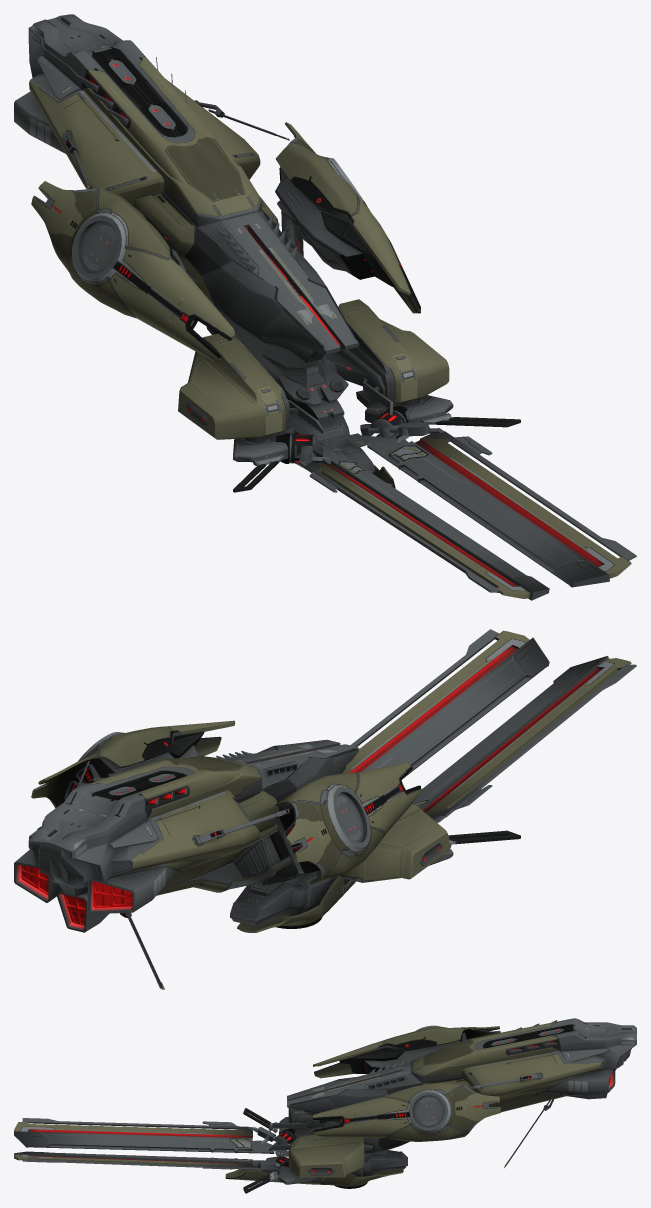
Rendered from 49712_lite.glb.
3 renders of one model, top to bottom at view 1: azimuth 30°, elevation 25°; view 2: azimuth 150°, elevation 25°; view 3: azimuth 270°, elevation 25°, orthographic. The views are drawn at different scales.
Visible parts, largest first — view 1: ship; view 2: ship; view 3: ship.
Part boxes in pixels (x1,y1,x2,y2): ship: (14,14,636,600); ship: (14,629,636,989); ship: (14,1018,636,1193).
Size of the model in its own units: 1.95 by 1.69 by 6.13.
Materials: 1 (1 with a texture image).
